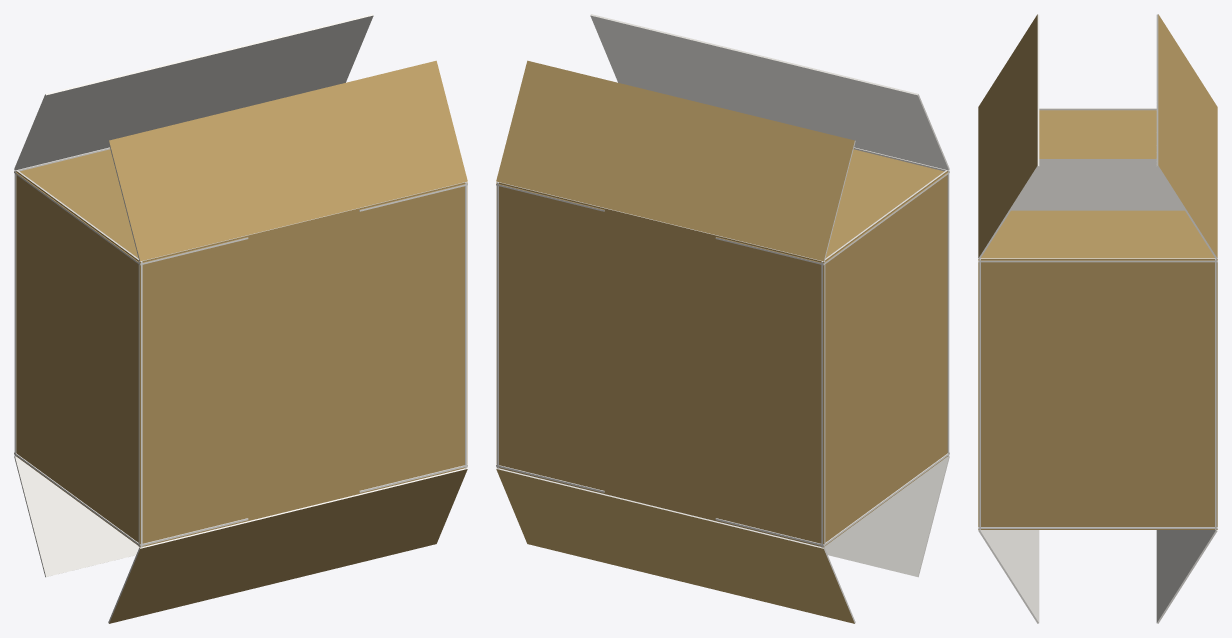
3 views of the same model, side by side, from view 1: azimuth 30°, elevation 25°; view 2: azimuth 150°, elevation 25°; view 3: azimuth 270°, elevation 25° (orthographic). The views are drawn at different scales.
Parts seen in each view (by area): view 1: Packive_Box_fefco0201; view 2: Packive_Box_fefco0201; view 3: Packive_Box_fefco0201.
Part boxes in pixels (x1=…): Packive_Box_fefco0201: x1=14, y1=14, x2=467, y2=623; Packive_Box_fefco0201: x1=496, y1=14, x2=949, y2=623; Packive_Box_fefco0201: x1=978, y1=14, x2=1217, y2=623.
Size of the model in its own units: 0.3 by 0.423 by 0.2.
24 materials, 12 textured.
